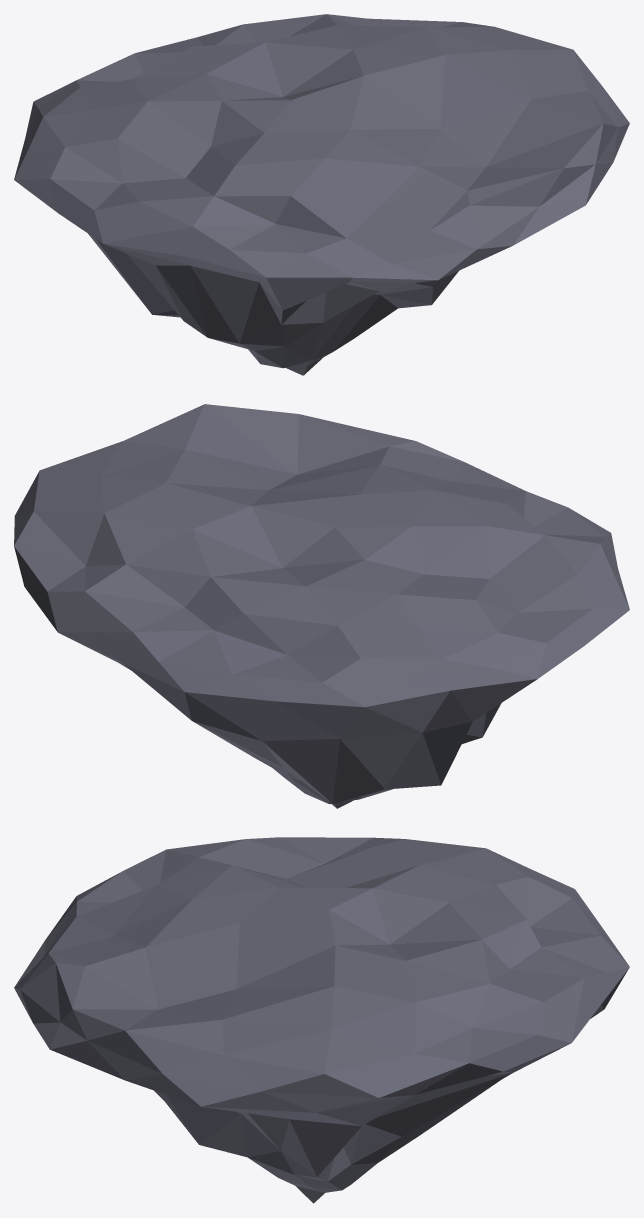
Rendered from IslandGray.fbx.
3 views of the same model, one above another, from view 1: azimuth 30°, elevation 25°; view 2: azimuth 150°, elevation 25°; view 3: azimuth 270°, elevation 25° (orthographic). The views are drawn at different scales.
Parts seen in each view (by area): view 1: Island.003; view 2: Island.003; view 3: Island.003.
Boxes of the visible parts, bbox=[...] form: Island.003: bbox=[14, 14, 629, 375]; Island.003: bbox=[14, 404, 629, 808]; Island.003: bbox=[14, 837, 629, 1203].
Bounding box in the file's own units: 1211 × 622 × 1170.
Materials: 1 (1 with a texture image).
